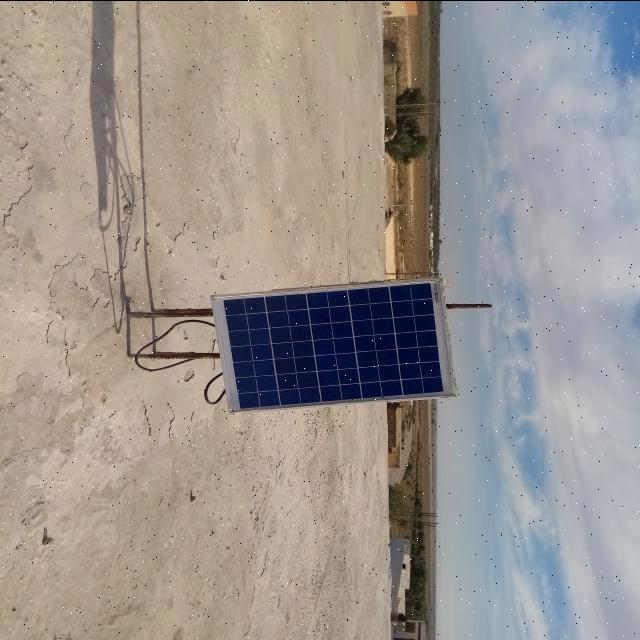Normal Solar Panel: (212, 279, 456, 413)
